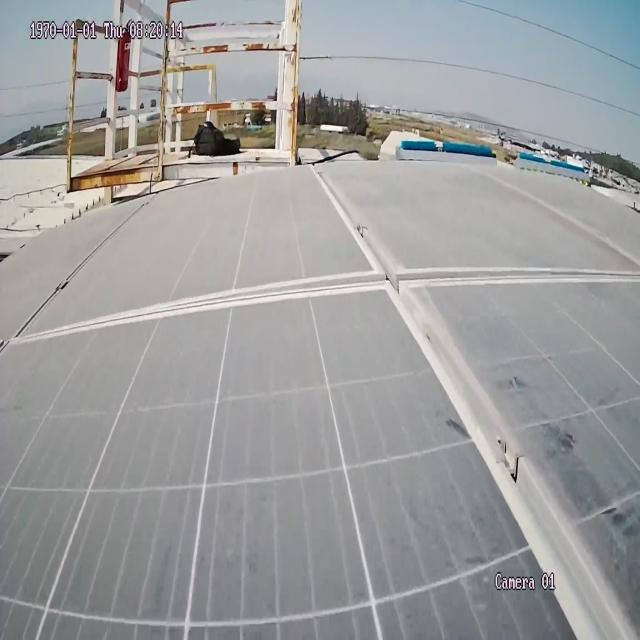interior panel: (0, 155, 640, 640)
